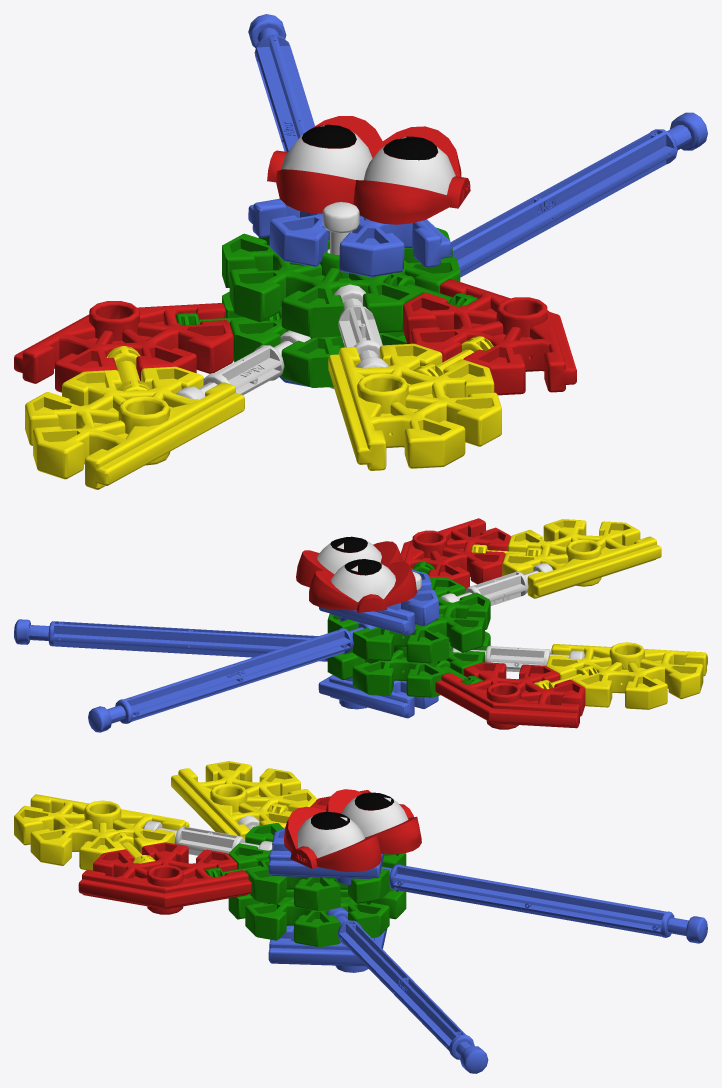
3 views of the same model, one above another, from view 1: azimuth 30°, elevation 25°; view 2: azimuth 150°, elevation 25°; view 3: azimuth 270°, elevation 25° (orthographic). The views are drawn at different scales.
Parts seen in each view (by area): view 1: K2_L04.003, K2_L04.001, K2_L04.002, K2_L04.010, K2_L04.011, K2_L04.014, K2_L04.005, K2_L04.008, K2_L04.004, K2_L04, K2_L04.007, K2_L04.012 (+1 smaller); view 2: K2_L04.003, K2_L04.002, K2_L04.001, K2_L04.010, K2_L04.011, K2_L04.014, K2_L04.008, K2_L04.005, K2_L04.004, K2_L04.006, K2_L04, K2_L04.012 (+1 smaller); view 3: K2_L04.003, K2_L04.002, K2_L04.001, K2_L04.011, K2_L04.014, K2_L04.004, K2_L04.006, K2_L04.008, K2_L04.005, K2_L04, K2_L04.013.
Part boxes in pixels (x1,y1,x2,y2): K2_L04.003: (25,343,501,489); K2_L04.001: (222,227,477,387); K2_L04.002: (248,14,707,277); K2_L04.010: (14,301,233,392); K2_L04.011: (403,279,576,395); K2_L04.014: (267,116,470,224); K2_L04.005: (248,198,451,276); K2_L04.008: (176,284,388,399); K2_L04.004: (281,132,455,194); K2_L04: (301,124,437,160); K2_L04.007: (322,202,359,388); K2_L04.012: (106,346,150,391); K2_L04.003: (502,519,707,709); K2_L04.002: (14,619,376,732); K2_L04.001: (327,561,490,697); K2_L04.010: (435,662,585,729); K2_L04.011: (400,518,510,589); K2_L04.014: (296,541,417,612); K2_L04.008: (440,563,584,672); K2_L04.005: (319,569,438,635); K2_L04.004: (317,541,395,601); K2_L04.006: (318,675,438,718); K2_L04: (330,536,381,575); K2_L04.012: (534,665,597,689); K2_L04.003: (14,761,317,870); K2_L04.002: (326,864,707,1073); K2_L04.001: (205,823,406,947); K2_L04.011: (78,842,251,914); K2_L04.014: (284,789,421,871); K2_L04.004: (297,797,408,857); K2_L04.006: (268,925,387,972); K2_L04.008: (143,815,272,855); K2_L04.005: (268,828,384,884); K2_L04: (311,792,393,829); K2_L04.013: (111,832,155,863).
Bounding box in the file's own units: 2.62 × 0.668 × 2.61.
